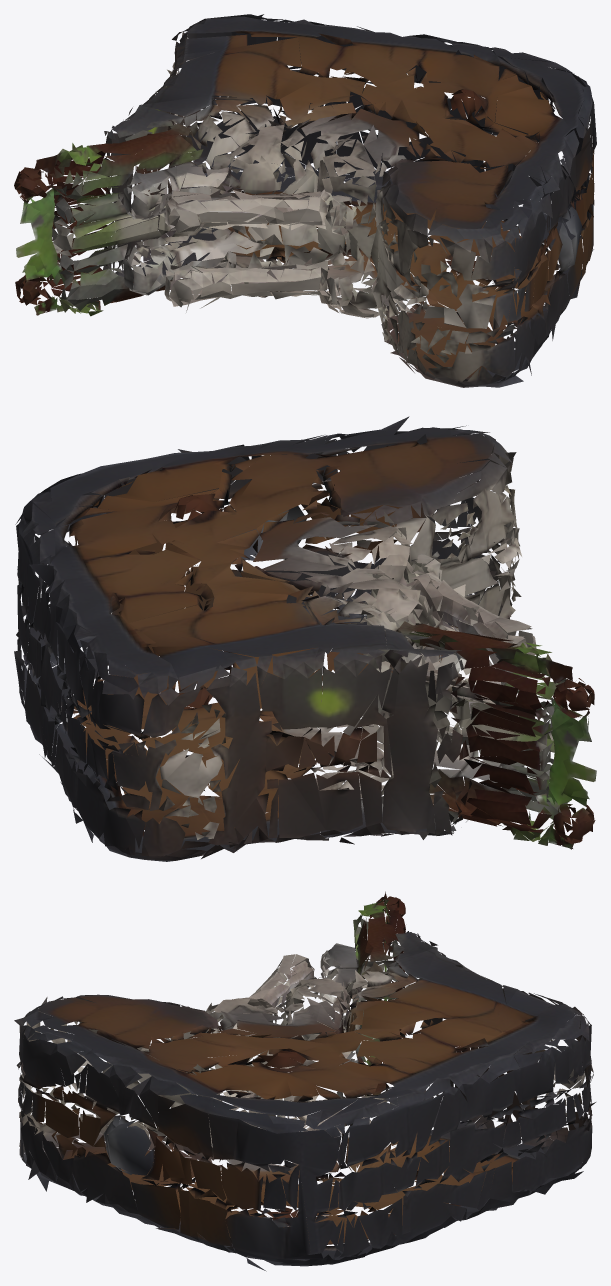
The model's file is Lab_Bones.glb.
3 renders of one model, top to bottom at view 1: azimuth 30°, elevation 25°; view 2: azimuth 150°, elevation 25°; view 3: azimuth 270°, elevation 25°, orthographic. The views are drawn at different scales.
Parts seen in each view (by area): view 1: Lab_Bones; view 2: Lab_Bones; view 3: Lab_Bones.
Part boxes in pixels (x1=…): Lab_Bones: x1=14, y1=14, x2=596, y2=387; Lab_Bones: x1=14, y1=416, x2=596, y2=861; Lab_Bones: x1=14, y1=891, x2=595, y2=1271.
Size of the model in its own units: 1.21 by 0.3976 by 1.22.
1 material, 1 textured.
